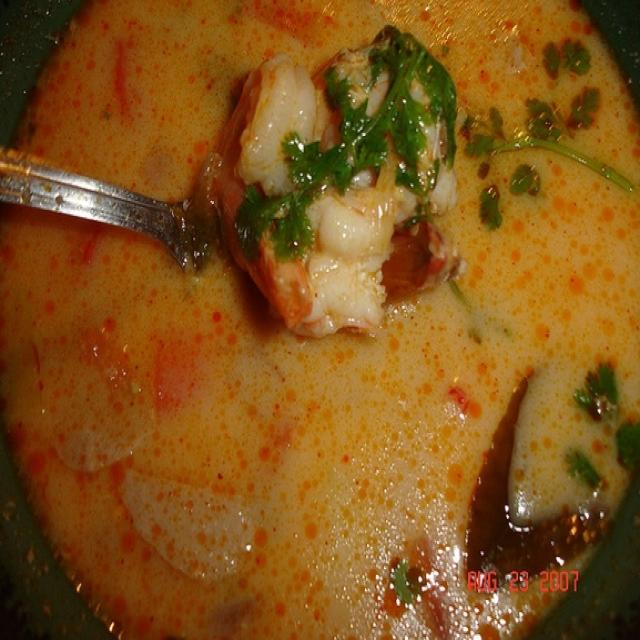汤锅炖物: (63, 34, 588, 517)
